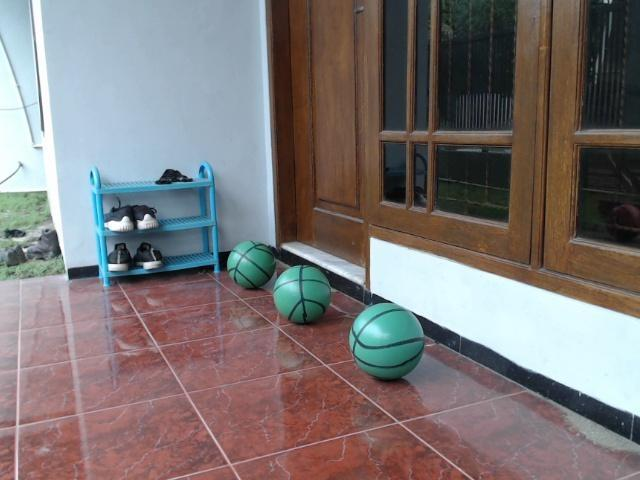Sports-Ball: (351, 299, 429, 382), (275, 262, 331, 327), (223, 240, 276, 288)
